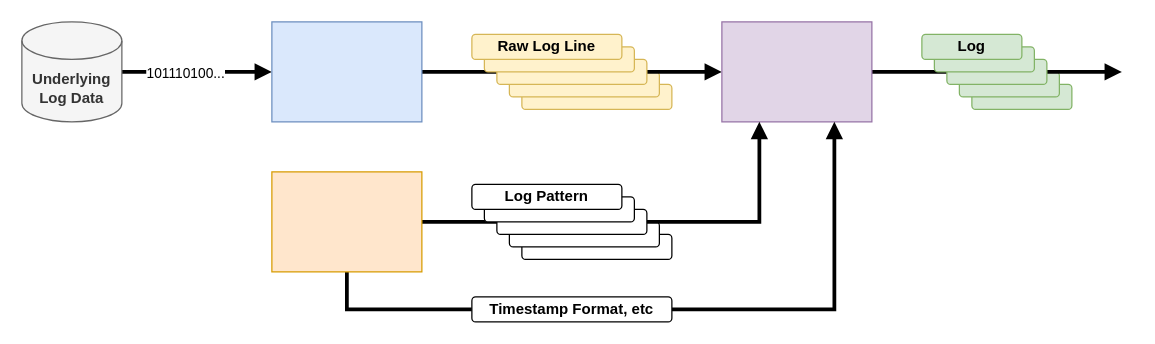
This 1155x344 diagram has some shape labels left out. The centre of each missing label's shape, as x and y in pixels:
Log Data Source: pixel 346 71
Log Profile: pixel 346 221
Log Reader: pixel 796 71
